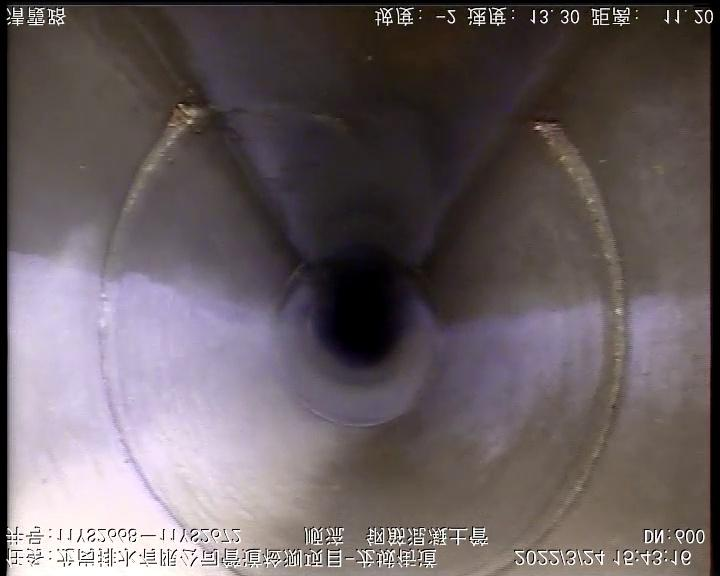CKTJ: (97, 102, 208, 466), (531, 120, 626, 539)
